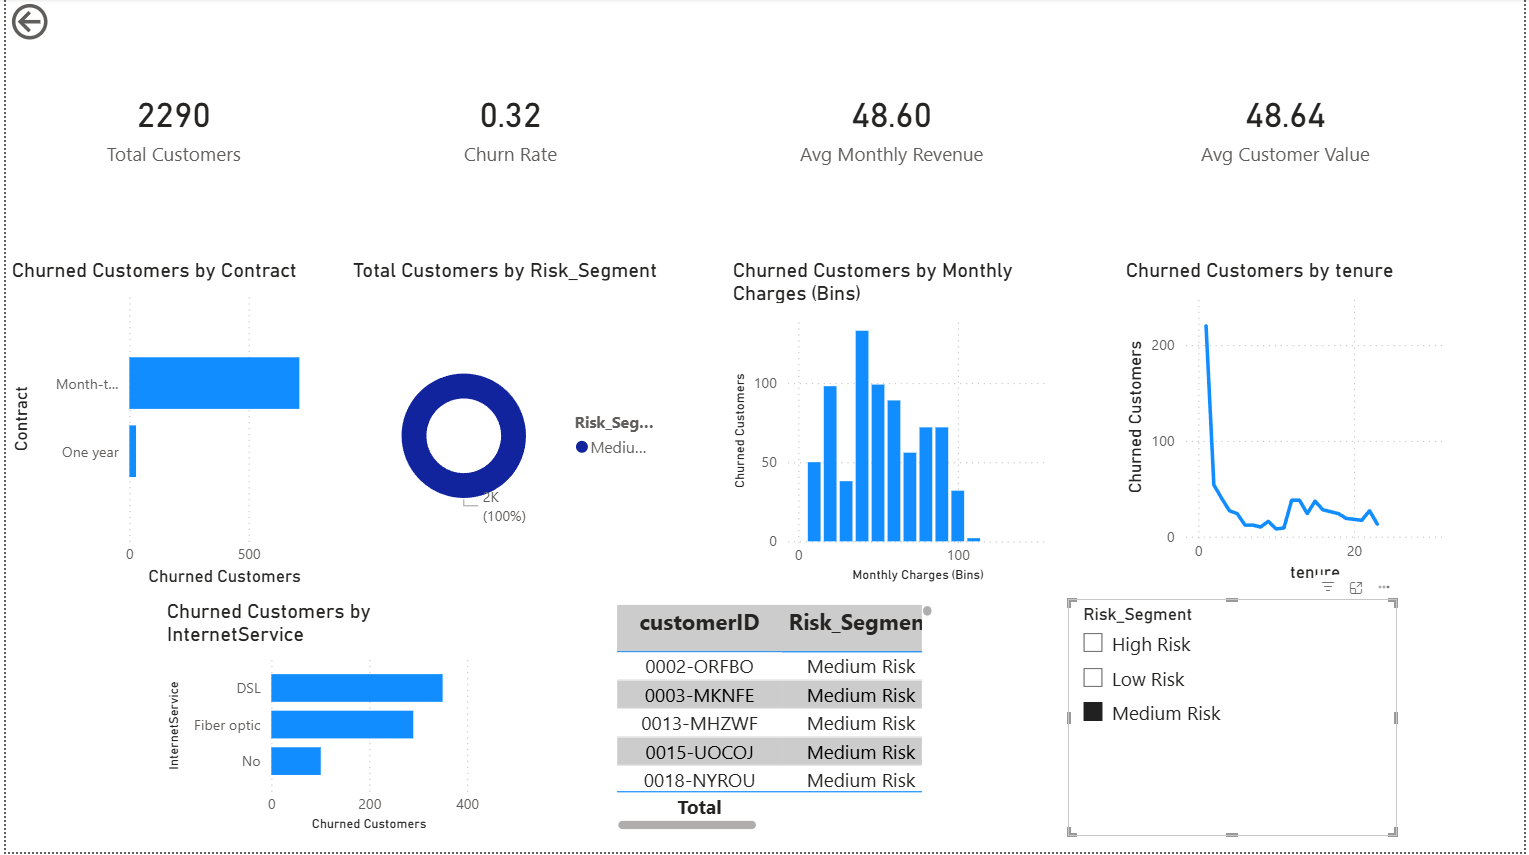

The dashboard page shown, as its layout file describes it:
{"tool":"powerbi","page":{"name":"Page 1","canvas":[1280,720],"ordinal":0},"visuals":[{"type":"card","fields":{"Values":["telco_churn_analysis churn_analysis.Total Customers"]},"box":[16.3,0,251,214.4],"z":3},{"type":"card","fields":{"Values":["telco_churn_analysis churn_analysis.Churn Rate"]},"box":[284.6,0,280.8,214.4],"z":4},{"type":"card","fields":{"Values":["telco_churn_analysis churn_analysis.Avg Monthly Revenue"]},"box":[591.3,0,311.5,214.4],"z":5},{"type":"card","fields":{"Values":["telco_churn_analysis churn_analysis.Avg Customer Value"]},"box":[914.4,0,327.9,214.4],"z":6},{"type":"clusteredBarChart","fields":{"Category":["telco_churn_analysis churn_analysis.Contract"],"Y":["telco_churn_analysis churn_analysis.Churned Customers"]},"box":[0,219.2,279.8,280.8],"z":7},{"type":"donutChart","fields":{"Category":["telco_churn_analysis churn_analysis.Risk_Segment"],"Y":["telco_churn_analysis churn_analysis.Total Customers"]},"box":[287.5,219.2,277.9,280.8],"z":8},{"type":"lineStackedColumnComboChart","fields":{"Category":["telco_churn_analysis churn_analysis.Monthly Charges (Bins)"],"Y":["telco_churn_analysis churn_analysis.Churned Customers"]},"box":[607.7,219.2,277.9,277.9],"z":9},{"type":"lineChart","fields":{"Category":["telco_churn_analysis churn_analysis.tenure"],"Y":["telco_churn_analysis churn_analysis.Churned Customers"]},"box":[939.4,219.2,277.9,277.9],"z":10},{"type":"barChart","fields":{"Category":["telco_churn_analysis churn_analysis.InternetService"],"Y":["telco_churn_analysis churn_analysis.Churned Customers"]},"box":[130.8,506.7,273.1,200],"z":11},{"type":"tableEx","fields":{"Values":["telco_churn_analysis churn_analysis.customerID","telco_churn_analysis churn_analysis.Risk_Segment","Sum(telco_churn_analysis churn_analysis.MonthlyCharges)","telco_churn_analysis churn_analysis.Churn"]},"box":[509.6,506.7,276.9,200],"z":12},{"type":"actionButton","box":[0,0,100,40],"z":13},{"type":"slicer","fields":{"Values":["telco_churn_analysis churn_analysis.Risk_Segment"]},"box":[895.2,506.7,277.9,200],"z":14}]}

Visuals, with their boxes in screenshot pixels (x1, y1, x2, y2), scaled from the page's 1280x720 canvas onto the 1529x855 screenshot:
card - telco_churn_analysis churn_analysis.Total Customers: x1=19 y1=0 x2=319 y2=255
card - telco_churn_analysis churn_analysis.Churn Rate: x1=340 y1=0 x2=675 y2=255
card - telco_churn_analysis churn_analysis.Avg Monthly Revenue: x1=706 y1=0 x2=1078 y2=255
card - telco_churn_analysis churn_analysis.Avg Customer Value: x1=1092 y1=0 x2=1484 y2=255
clusteredBarChart - telco_churn_analysis churn_analysis.Contract x telco_churn_analysis churn_analysis.Churned Customers: x1=0 y1=260 x2=334 y2=594
donutChart - telco_churn_analysis churn_analysis.Risk_Segment x telco_churn_analysis churn_analysis.Total Customers: x1=343 y1=260 x2=675 y2=594
lineStackedColumnComboChart - telco_churn_analysis churn_analysis.Monthly Charges (Bins) x telco_churn_analysis churn_analysis.Churned Customers: x1=726 y1=260 x2=1058 y2=590
lineChart - telco_churn_analysis churn_analysis.tenure x telco_churn_analysis churn_analysis.Churned Customers: x1=1122 y1=260 x2=1454 y2=590
barChart - telco_churn_analysis churn_analysis.InternetService x telco_churn_analysis churn_analysis.Churned Customers: x1=156 y1=602 x2=482 y2=839
tableEx - telco_churn_analysis churn_analysis.customerID x telco_churn_analysis churn_analysis.Risk_Segment: x1=609 y1=602 x2=939 y2=839
actionButton: x1=0 y1=0 x2=119 y2=48
slicer - telco_churn_analysis churn_analysis.Risk_Segment: x1=1069 y1=602 x2=1401 y2=839
